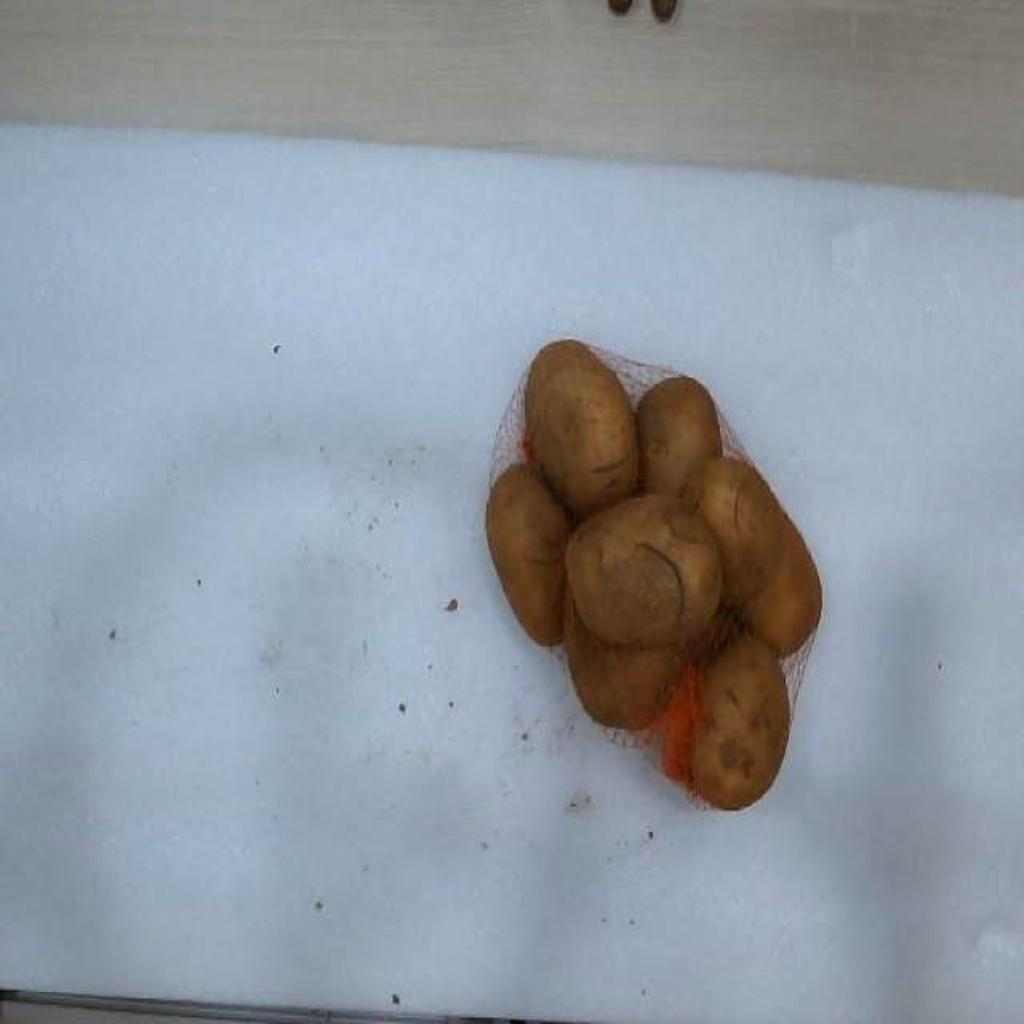potato: (566, 496, 722, 645), (526, 339, 638, 517), (690, 635, 790, 809), (564, 592, 686, 729), (486, 467, 570, 645), (698, 459, 786, 604), (742, 517, 822, 655), (636, 376, 722, 495)
